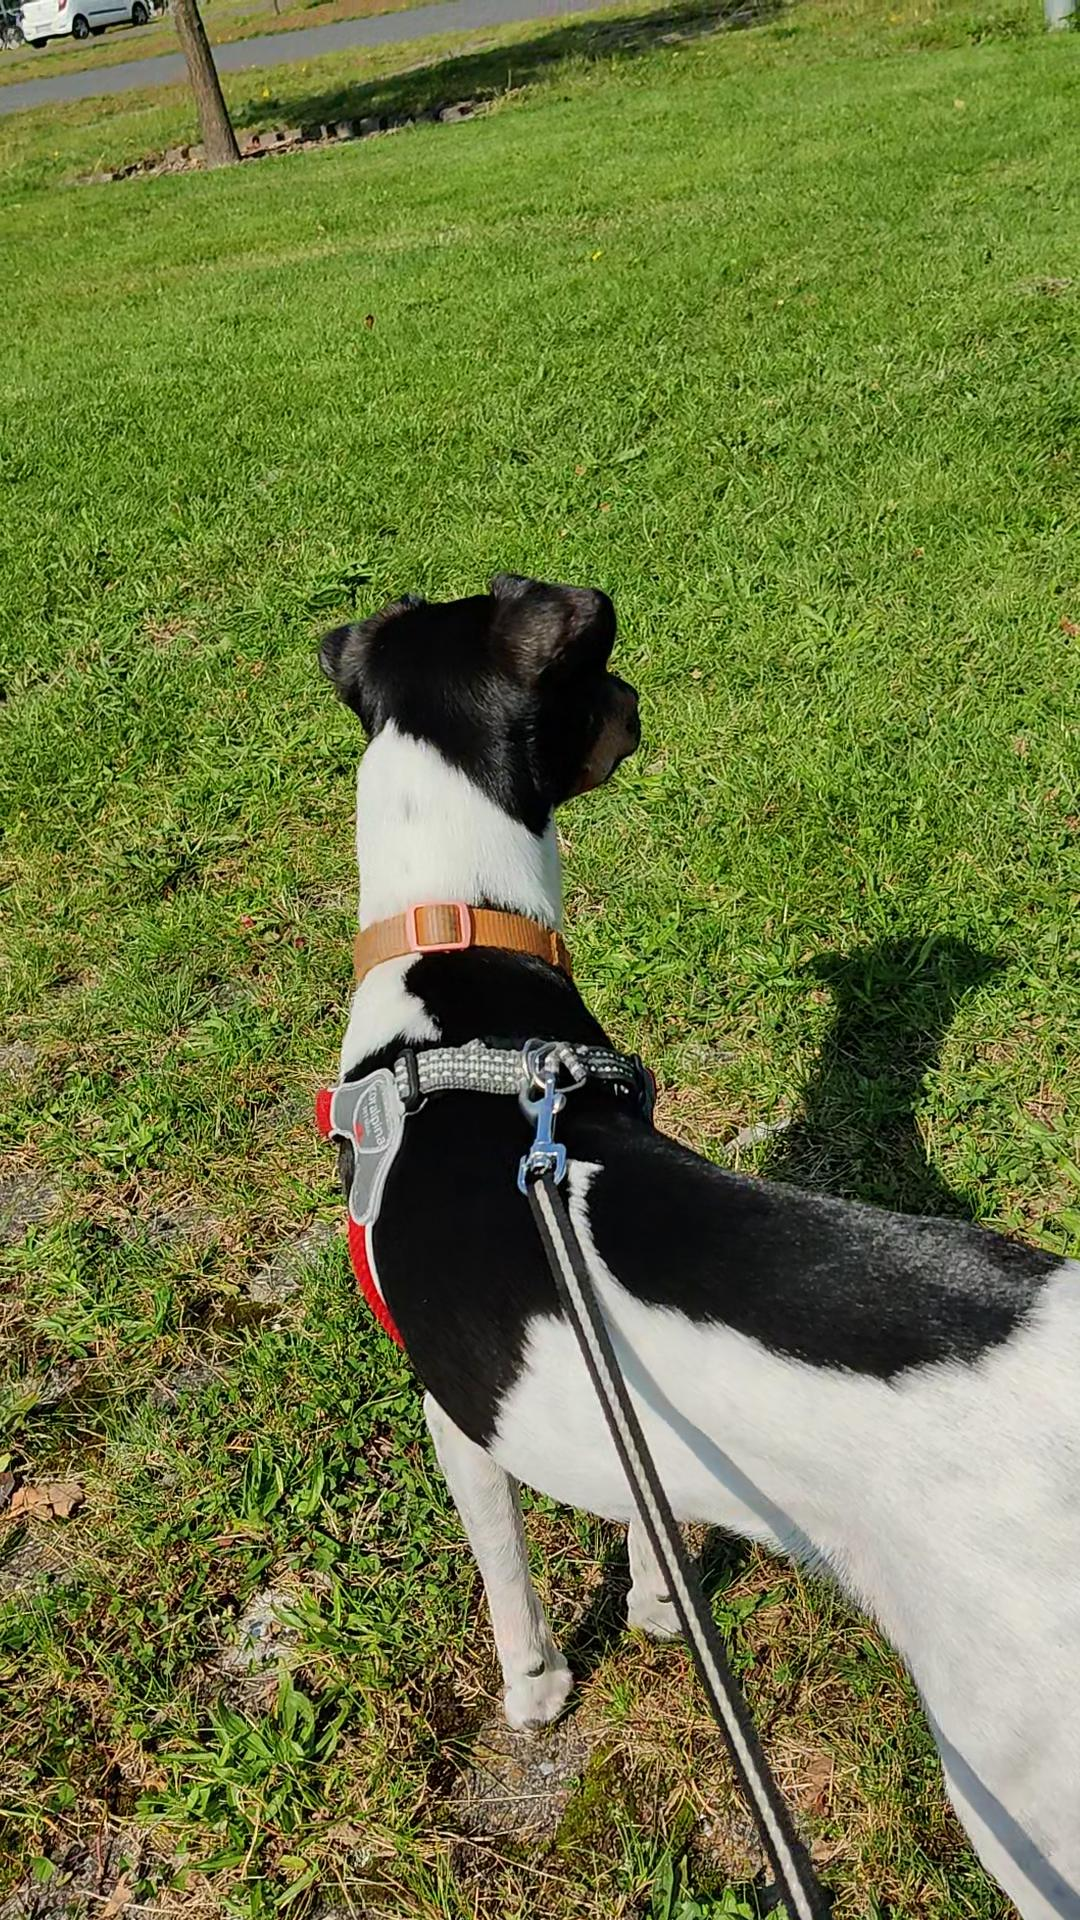Dog: (302, 562, 1079, 1919)
